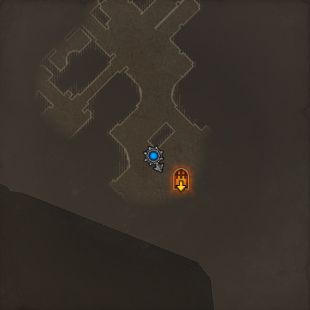Exit: (171, 166, 192, 194)
